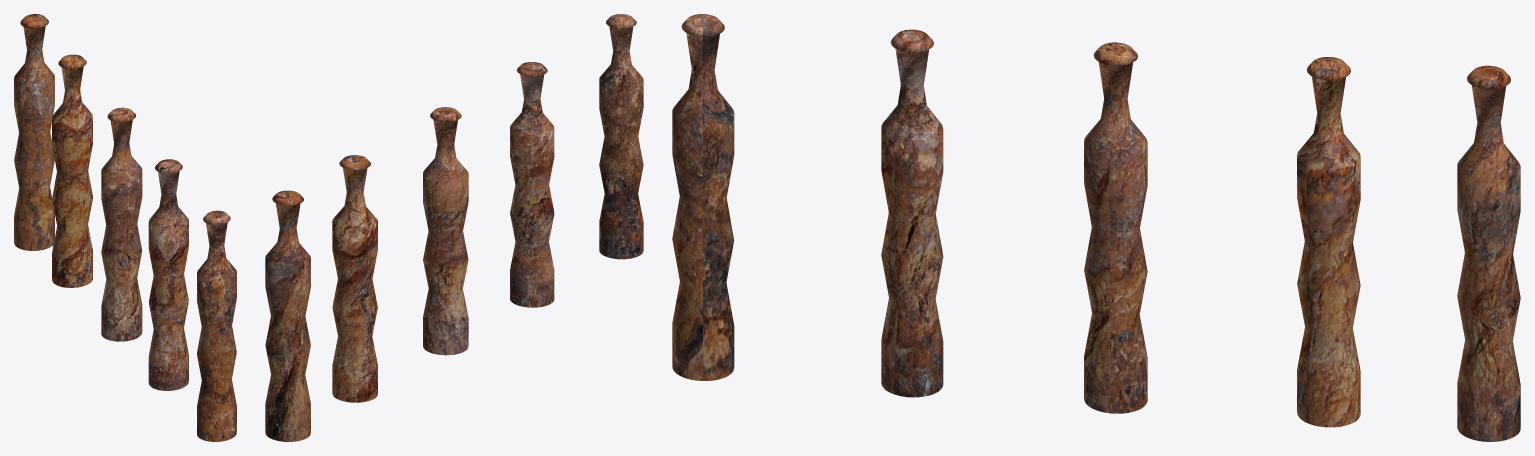
File: circle.018_lev3.glb
The picture shows the model from 3 angles, left to right: view 1: azimuth 30°, elevation 25°; view 2: azimuth 150°, elevation 25°; view 3: azimuth 270°, elevation 25°; orthographic projection. The views are drawn at different scales.
Parts seen in each view (by area): view 1: circle.018_lev3; view 2: circle.018_lev3; view 3: circle.018_lev3.
Part boxes in pixels (box(x1,y1,x2,y2)): circle.018_lev3: box(14, 14, 236, 441); circle.018_lev3: box(265, 14, 643, 441); circle.018_lev3: box(672, 14, 1520, 441).
Bounding box in the file's own units: 0.0515 × 0.1083 × 0.2343.
1 material, 1 textured.
